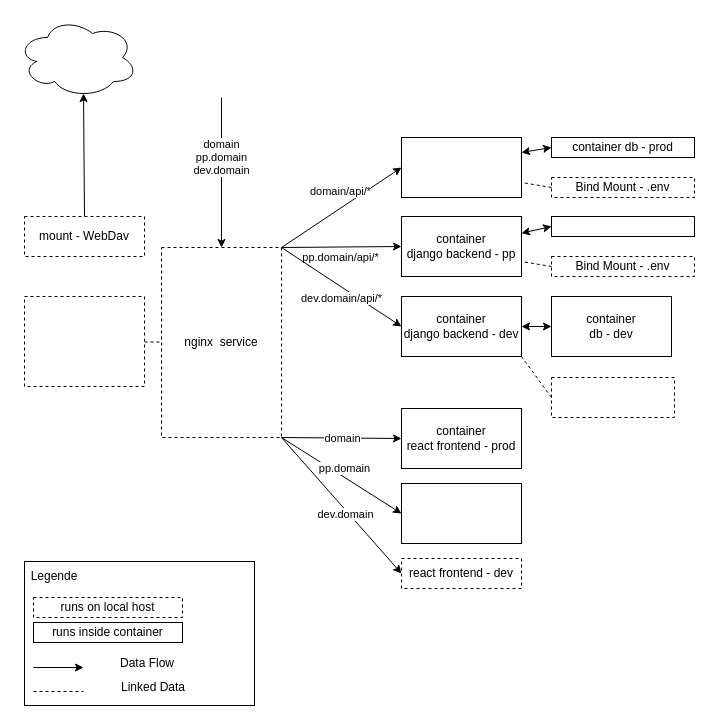
The diagram is 712 pixels wide and 723 high, and some of its shapes have lost their labels. Here are the shapes that lost their labels. From the top down, the centre of each, then its label:
(77,57): BSCW
(461,167): container django backend - prod
(622,226): container db - pp
(84,341): - SSL Zertifikate - static content - nginx config - logs
(612,397): Bind Mount - Backend App (Python)
(461,513): container react frontend - pp
